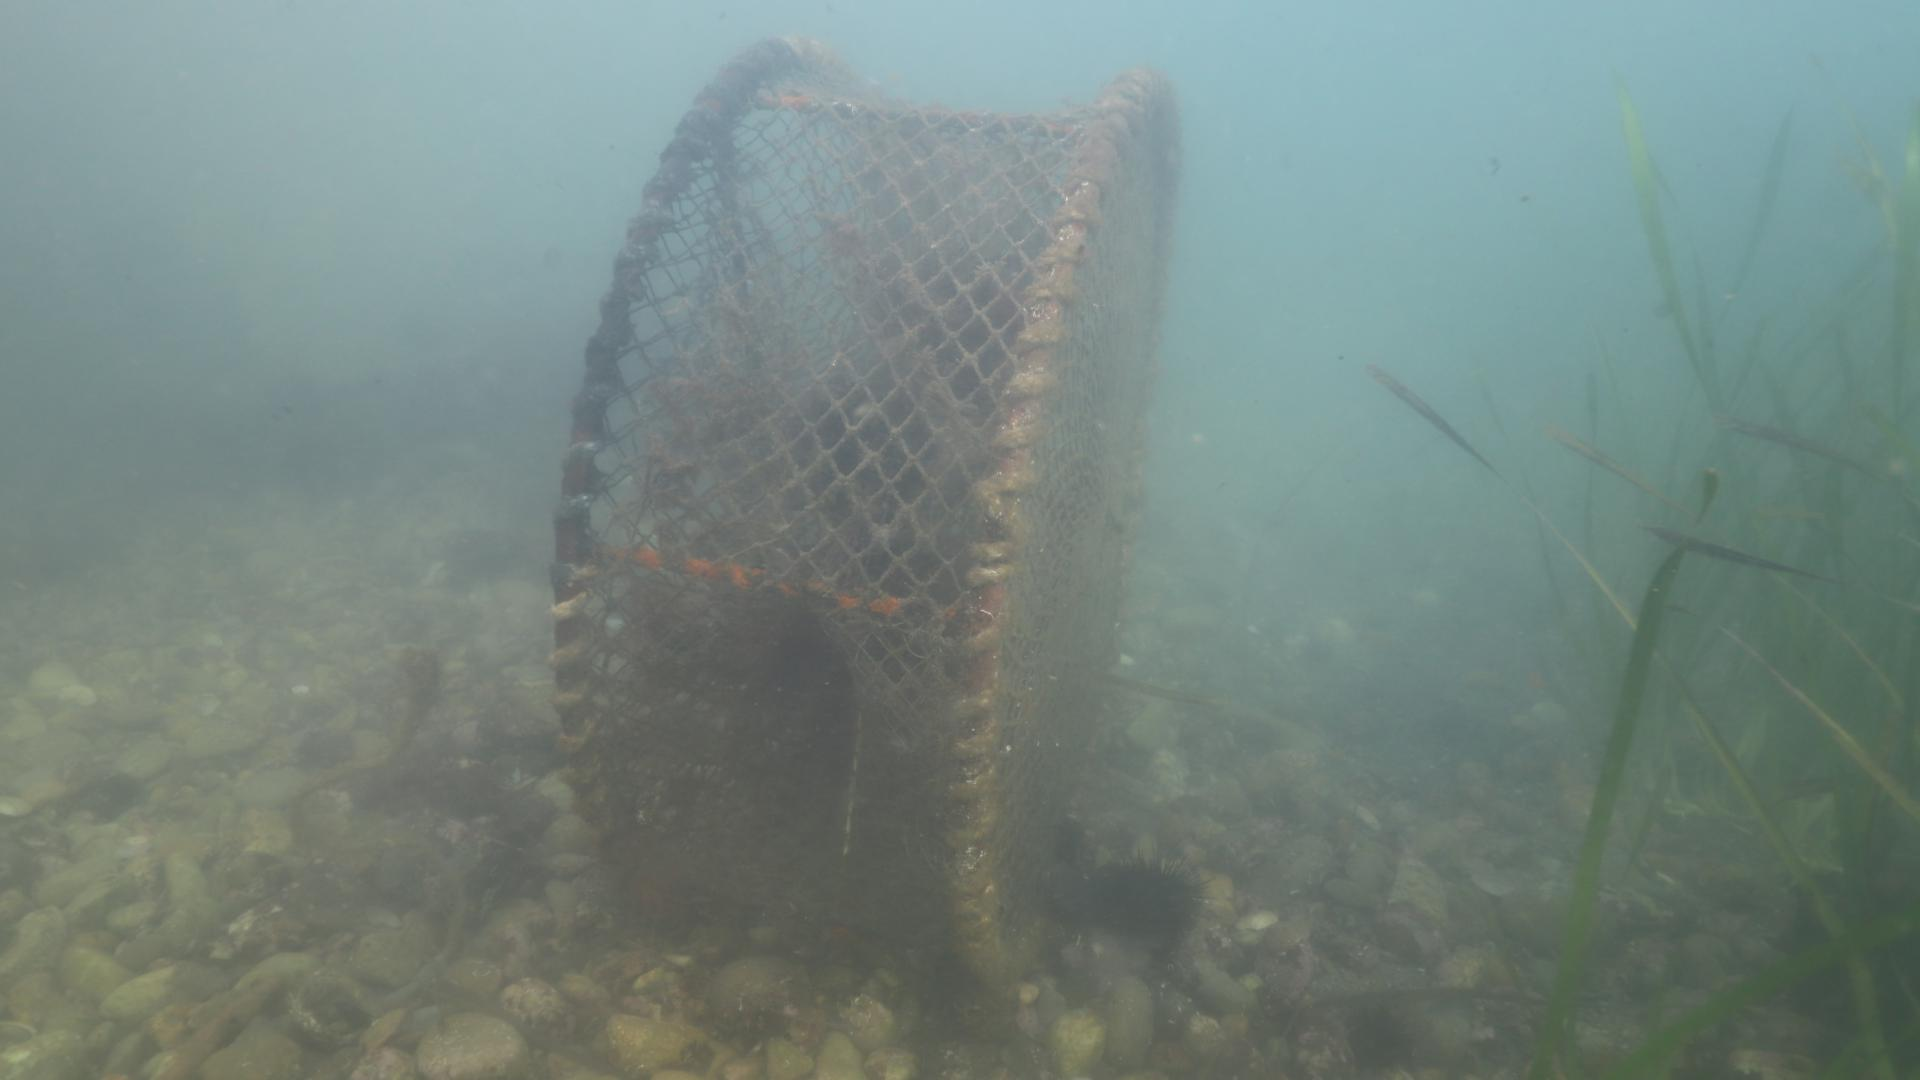circular fish trap: (549, 36, 1185, 1017)
